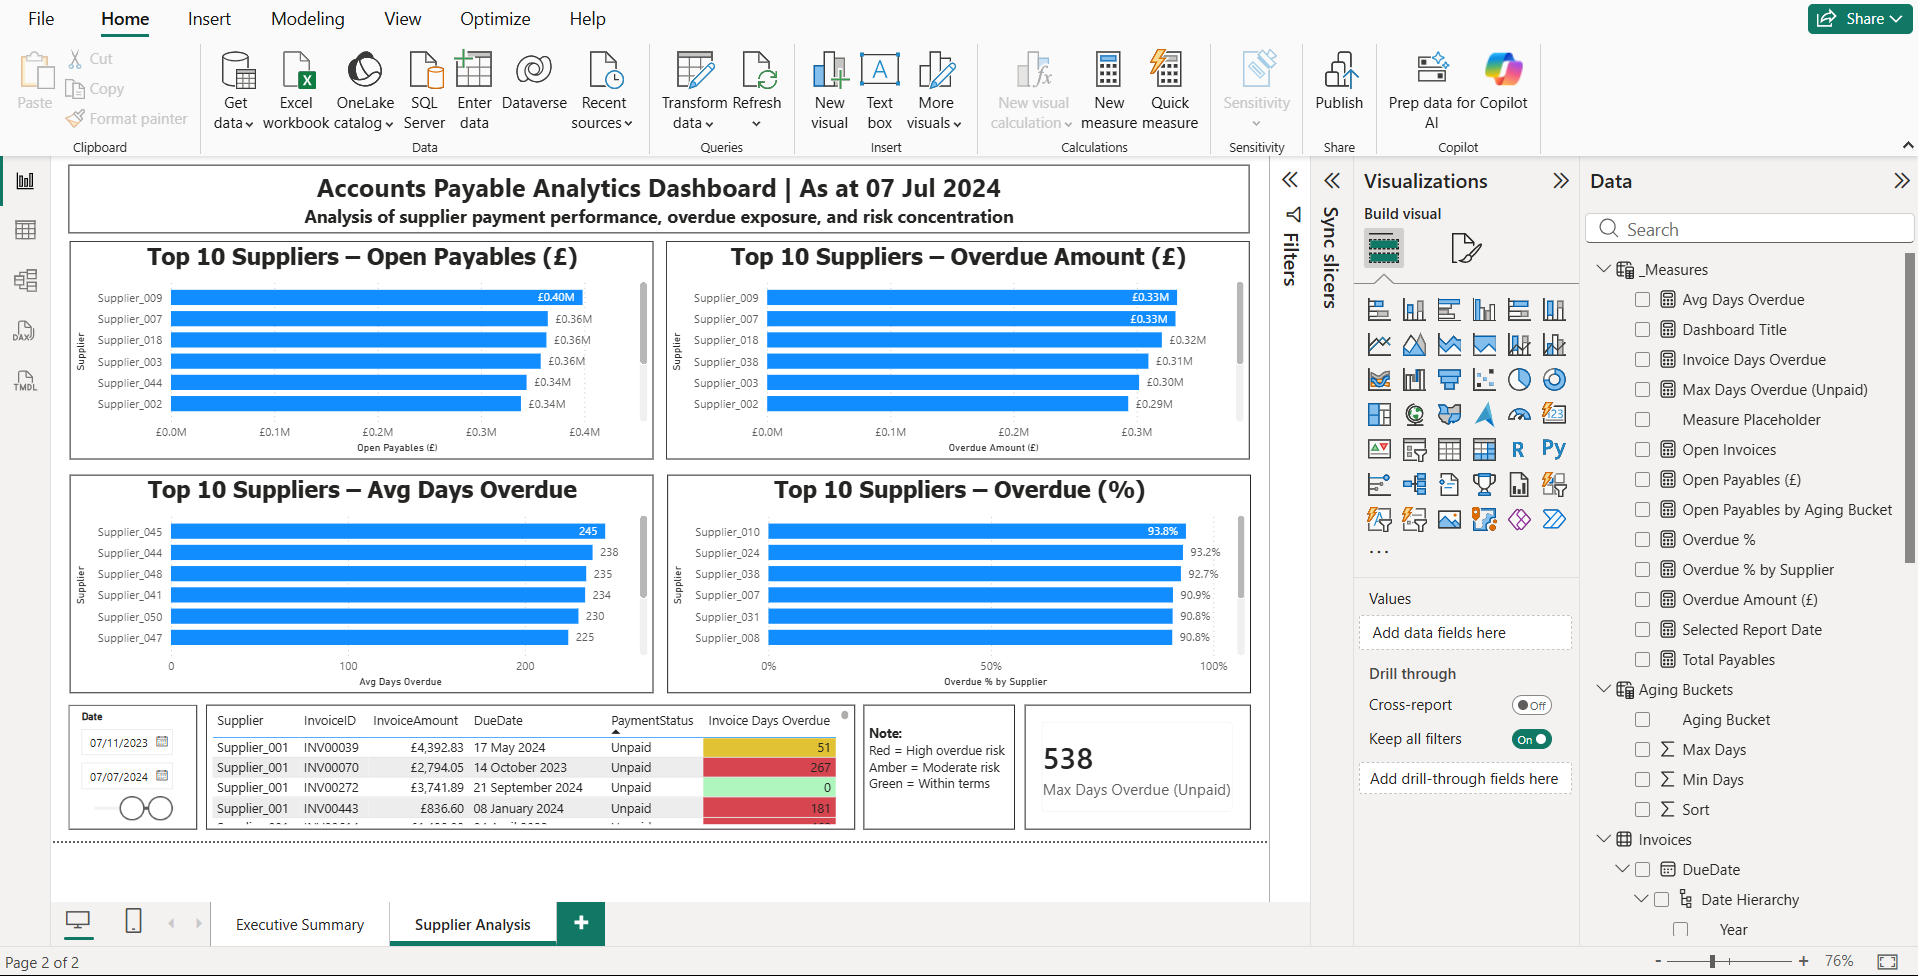

The page's visual inventory and layout, read from the dashboard file:
{"tool":"powerbi","page":{"name":"Supplier Analysis","canvas":[1280,720],"ordinal":1},"visuals":[{"type":"slicer","fields":{"Values":["Report Date.Date"]},"box":[18.4,576.9,135.4,131.4],"z":0},{"type":"textbox","box":[18.4,9.2,1241.9,72.3],"z":1000},{"type":"clusteredBarChart","title":"Top 10 Suppliers – Overdue Amount (£)","fields":{"Category":["Invoices.Supplier"],"Y":["_Measures.Overdue Amount"]},"box":[646.6,89.4,613.7,230],"z":2000},{"type":"clusteredBarChart","title":"Top 10 Suppliers – Open Payables (£)","fields":{"Category":["Invoices.Supplier"],"Y":["_Measures.Open Payables"]},"box":[19.7,89.4,613.7,230],"z":3000},{"type":"tableEx","fields":{"Values":["Invoices.Supplier","Invoices.InvoiceID","Invoices.InvoiceAmount","Invoices.DueDate","Invoices.PaymentStatus","_Measures.Invoice Days Overdue"]},"box":[163,576.9,682.1,131.4],"z":4000},{"type":"clusteredBarChart","title":"Top 10 Suppliers – Avg Days Overdue","fields":{"Category":["Invoices.Supplier"],"Y":["_Measures.Avg Days Overdue"]},"box":[19.7,335.1,613.7,230],"z":5000},{"type":"clusteredBarChart","title":"Top 10 Suppliers – Overdue (%)","fields":{"Category":["Invoices.Supplier"],"Y":["_Measures.Overdue % by Supplier"]},"box":[647.9,335.1,613.7,230],"z":6000},{"type":"cardVisual","fields":{"Data":["_Measures.Max Days Overdue"]},"box":[1023.7,576.9,237.9,131.4],"z":7000},{"type":"textbox","box":[854.2,576.9,159,131.4],"z":7001}]}

Visuals, with their boxes on the page's 1280x720 design canvas (x1, y1, x2, y2). These are canvas units, not pixel positions in the 1918x976 screenshot, which may show the page scaled, cropped or inside an application window:
slicer - Report Date.Date: [left=18, top=577, right=154, bottom=708]
textbox: [left=18, top=9, right=1260, bottom=82]
"Top 10 Suppliers – Overdue Amount (£)" clusteredBarChart: [left=647, top=89, right=1260, bottom=319]
"Top 10 Suppliers – Open Payables (£)" clusteredBarChart: [left=20, top=89, right=633, bottom=319]
tableEx - Invoices.Supplier x Invoices.InvoiceID: [left=163, top=577, right=845, bottom=708]
"Top 10 Suppliers – Avg Days Overdue" clusteredBarChart: [left=20, top=335, right=633, bottom=565]
"Top 10 Suppliers – Overdue (%)" clusteredBarChart: [left=648, top=335, right=1262, bottom=565]
cardVisual - _Measures.Max Days Overdue: [left=1024, top=577, right=1262, bottom=708]
textbox: [left=854, top=577, right=1013, bottom=708]
